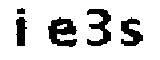3: (83, 4, 111, 50)
e: (47, 16, 80, 51)
i: (13, 6, 29, 51)
s: (116, 16, 145, 51)
